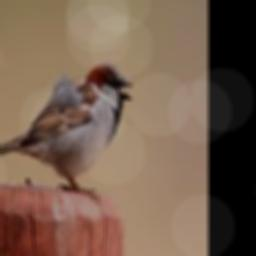Sparrow: (0, 60, 134, 201)
